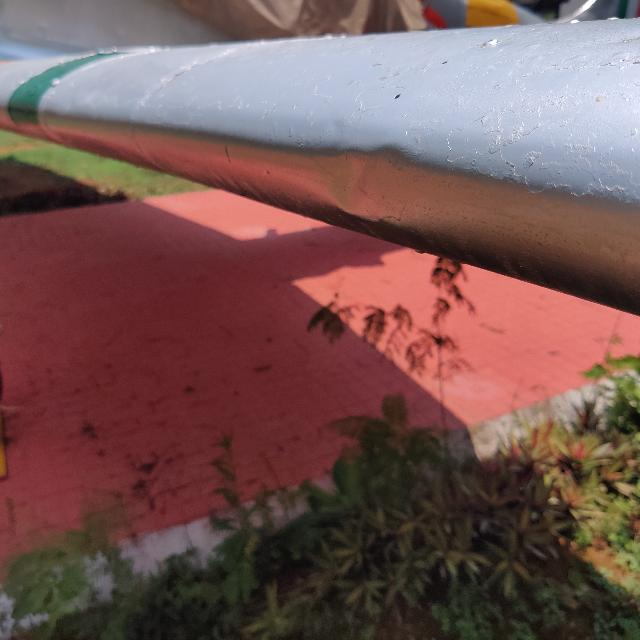dent: (312, 119, 424, 245)
